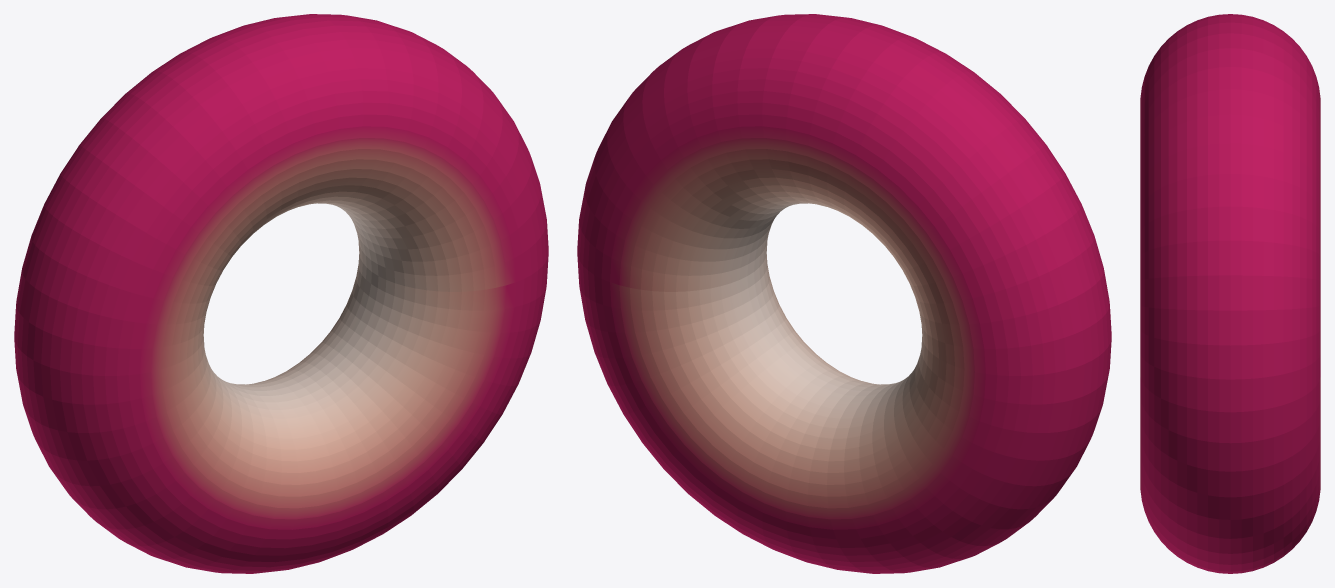
3 views of the same model, side by side, from view 1: azimuth 30°, elevation 25°; view 2: azimuth 150°, elevation 25°; view 3: azimuth 270°, elevation 25° (orthographic). The views are drawn at different scales.
Visible parts, largest first — view 1: world; view 2: world; view 3: world.
Part boxes in pixels (box(x1,y1,x2,y2)): world: box(14, 14, 548, 573); world: box(577, 14, 1111, 573); world: box(1140, 14, 1320, 573).
Bounding box in the file's own units: 28.53 × 28.48 × 9.18.
